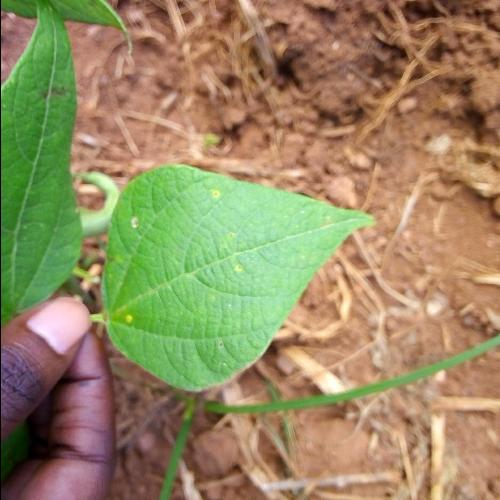hawar: (109, 160, 277, 306)
